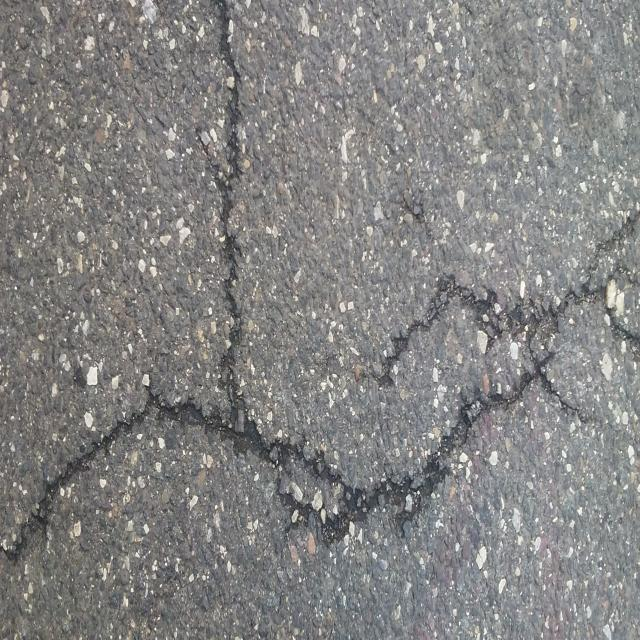Crack: (0, 0, 640, 567)
